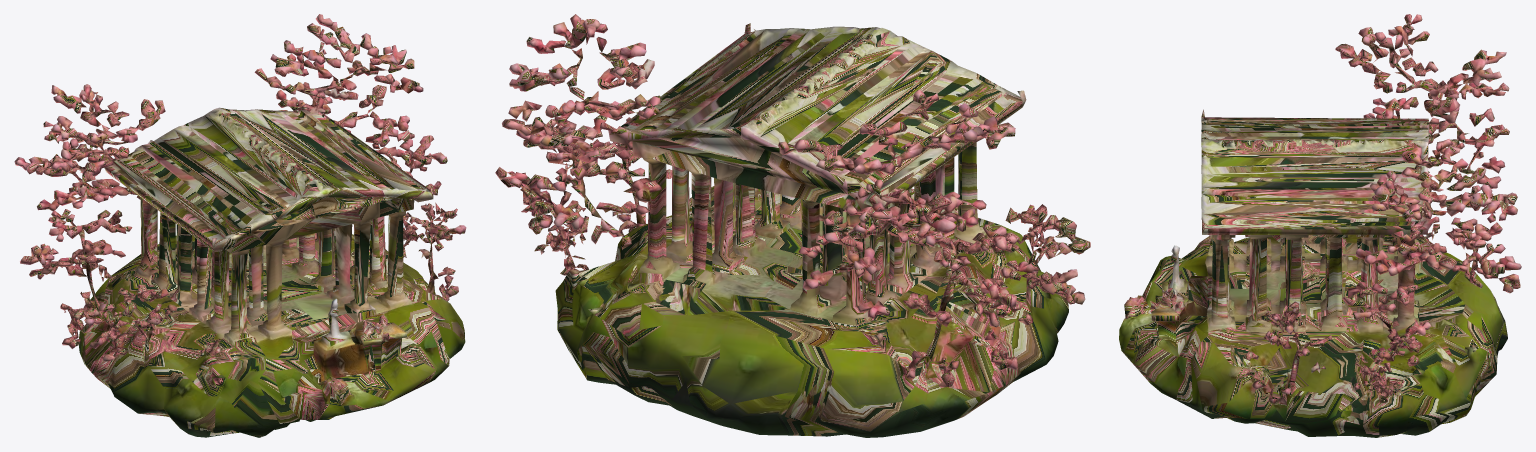
The model's file is _Greece_A_floating_i.glb.
3 views of the same model, side by side, from view 1: azimuth 30°, elevation 25°; view 2: azimuth 150°, elevation 25°; view 3: azimuth 270°, elevation 25° (orthographic). The views are drawn at different scales.
Parts seen in each view (by area): view 1: _Greece_A_floating_i; view 2: _Greece_A_floating_i; view 3: _Greece_A_floating_i.
Boxes of the visible parts, left/top/right/bottom form: _Greece_A_floating_i: left=14, top=14, right=466, bottom=437; _Greece_A_floating_i: left=495, top=14, right=1090, bottom=437; _Greece_A_floating_i: left=1119, top=14, right=1521, bottom=437.
Bounding box in the file's own units: 1.98 × 1.44 × 1.63.
Materials: 1 (1 with a texture image).
